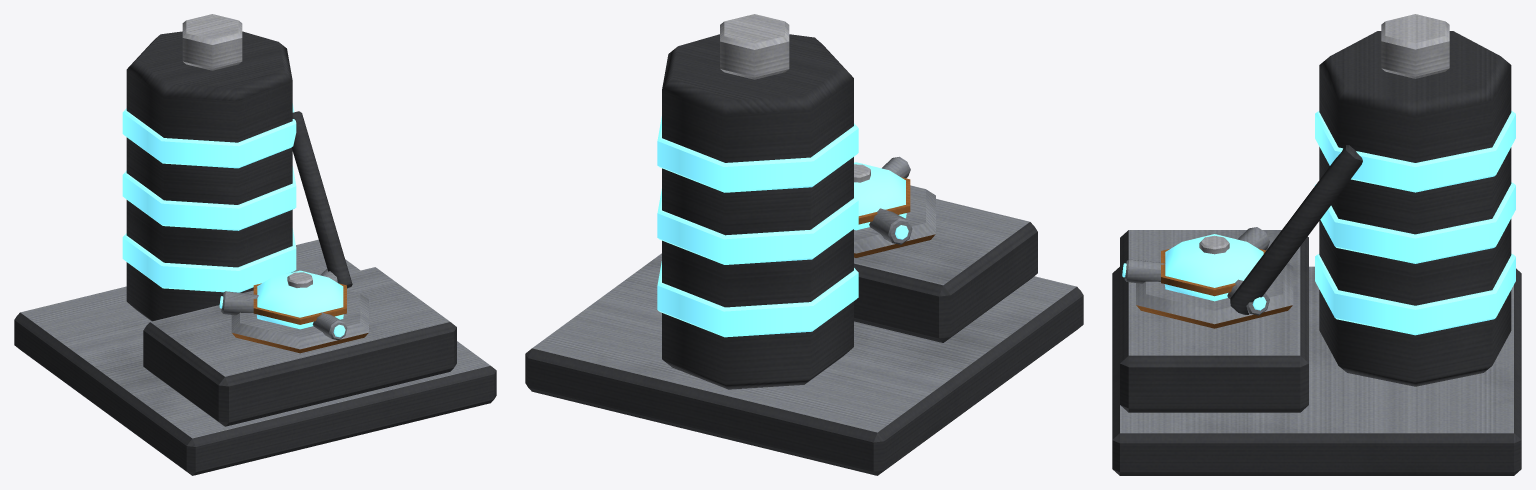
Rendered from R4X_SlowTrapDeployer_LOD1.glb.
The picture shows the model from 3 angles, left to right: view 1: azimuth 30°, elevation 25°; view 2: azimuth 150°, elevation 25°; view 3: azimuth 270°, elevation 25°; orthographic projection. The views are drawn at different scales.
Visible parts, largest first — view 1: R4X_SlowTrapDeployer_LOD1; view 2: R4X_SlowTrapDeployer_LOD1; view 3: R4X_SlowTrapDeployer_LOD1.
Boxes of the visible parts, x1=… form: R4X_SlowTrapDeployer_LOD1: x1=14, y1=14, x2=496, y2=475; R4X_SlowTrapDeployer_LOD1: x1=525, y1=14, x2=1083, y2=475; R4X_SlowTrapDeployer_LOD1: x1=1112, y1=14, x2=1521, y2=475.
Size of the model in its own units: 0.52 by 0.51 by 0.52.
5 materials, 4 textured.
